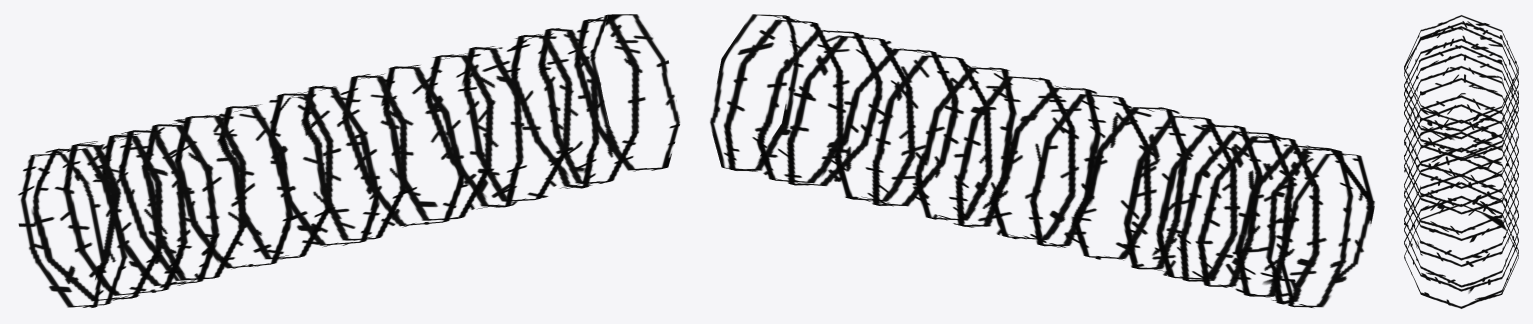
Rendered from Barbed Wire.glb.
3 views of the same model, side by side, from view 1: azimuth 30°, elevation 25°; view 2: azimuth 150°, elevation 25°; view 3: azimuth 270°, elevation 25° (orthographic). The views are drawn at different scales.
Parts seen in each view (by area): view 1: Barbed Wire; view 2: Barbed Wire; view 3: Barbed Wire.
Boxes of the visible parts, x1,y1,x2,y2 form: Barbed Wire: (18,14,679,307); Barbed Wire: (710,14,1374,307); Barbed Wire: (1404,15,1518,308).
Size of the model in its own units: 4 by 1.01 by 1.01.
Materials: 1 (1 with a texture image).
